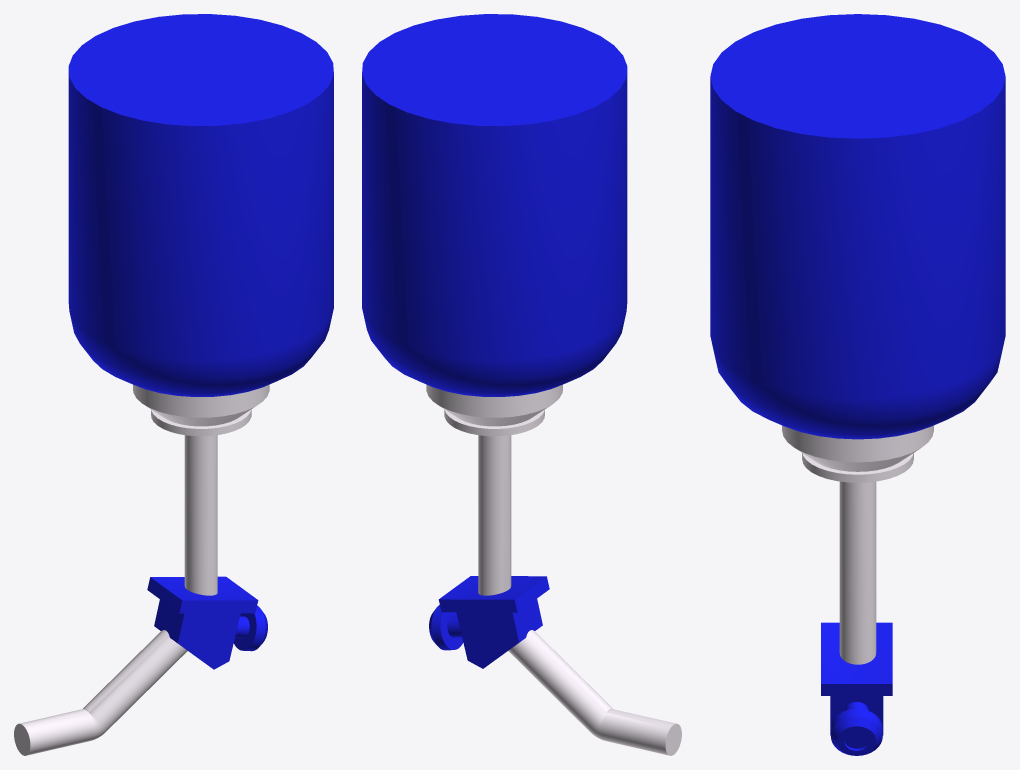
The model's file is blowtorch.obj.
3 views of the same model, side by side, from view 1: azimuth 30°, elevation 25°; view 2: azimuth 150°, elevation 25°; view 3: azimuth 270°, elevation 25° (orthographic). The views are drawn at different scales.
Parts seen in each view (by area): view 1: blowtorch.001_Cylinder.015; view 2: blowtorch.001_Cylinder.015; view 3: blowtorch.001_Cylinder.015.
Part boxes in pixels (<box>): blowtorch.001_Cylinder.015: <box>14,14,333,755</box>; blowtorch.001_Cylinder.015: <box>362,14,681,755</box>; blowtorch.001_Cylinder.015: <box>710,14,1005,755</box>.
Bounding box in the file's own units: 0.4979 × 1.04 × 0.3896.
